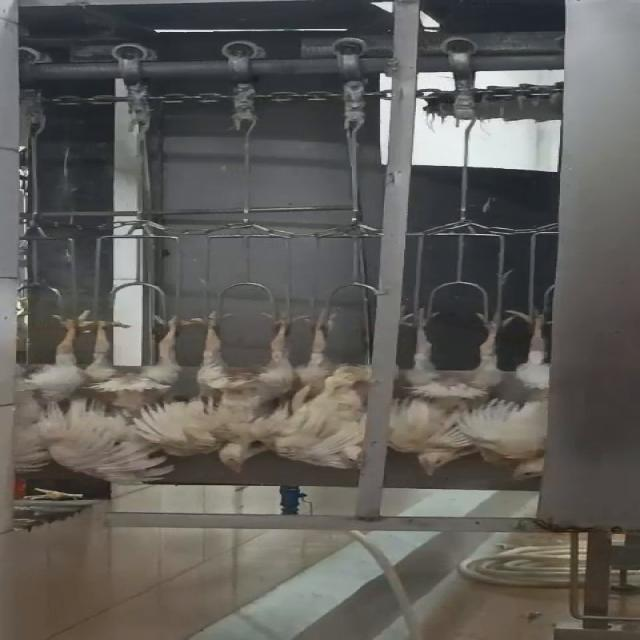chicken: (386, 304, 512, 482), (174, 304, 304, 476), (87, 316, 195, 483), (474, 288, 562, 484), (288, 310, 376, 475), (2, 310, 85, 484)
